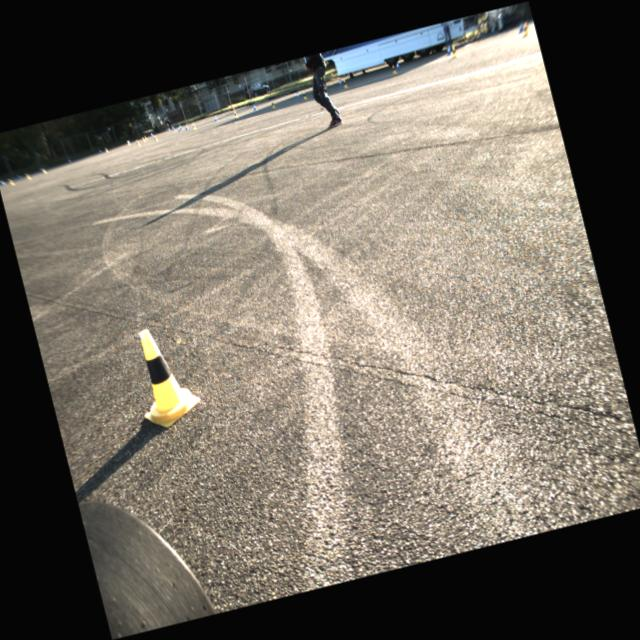blue_cone: (444, 44, 451, 56), (336, 76, 343, 86), (516, 23, 523, 33), (252, 102, 258, 111), (294, 90, 300, 98), (395, 62, 400, 70), (213, 115, 218, 122), (184, 124, 188, 130), (179, 124, 182, 130), (150, 132, 154, 136), (171, 125, 174, 130), (178, 126, 180, 131)
yellow_cone: (124, 320, 205, 432), (520, 20, 530, 36), (390, 64, 398, 76), (449, 45, 456, 58), (300, 90, 308, 99), (190, 122, 197, 130), (342, 79, 348, 88), (269, 99, 275, 108), (232, 110, 238, 119), (134, 138, 140, 146), (153, 135, 158, 142), (142, 136, 146, 142), (144, 134, 148, 140), (105, 146, 108, 153), (126, 140, 130, 144)
